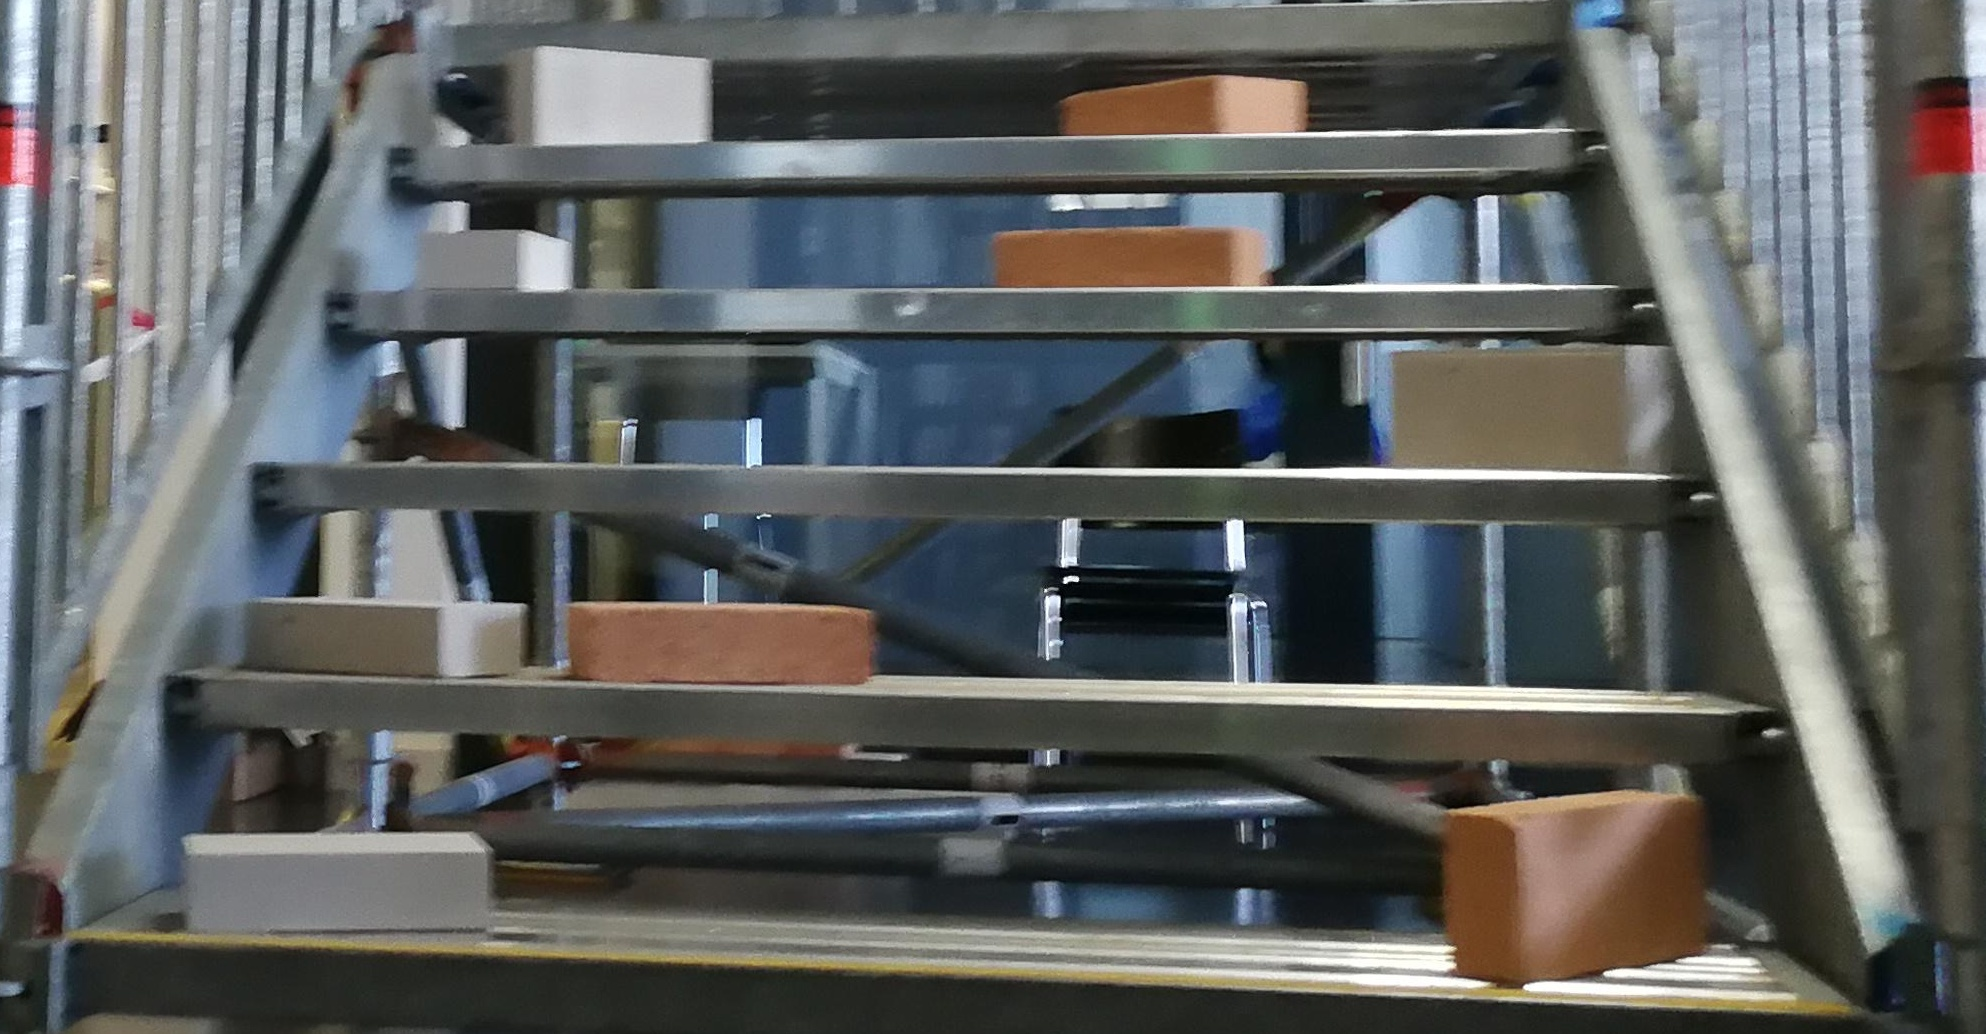brick: (1444, 791, 1704, 985), (1394, 353, 1668, 466), (184, 836, 485, 928), (567, 604, 872, 683), (247, 594, 521, 675), (506, 45, 703, 143), (990, 233, 1261, 288), (1064, 74, 1299, 137), (422, 227, 571, 290)
edge: (64, 938, 1859, 1033), (168, 670, 1788, 767), (257, 461, 1722, 540), (387, 125, 1620, 187), (327, 290, 1667, 330)
